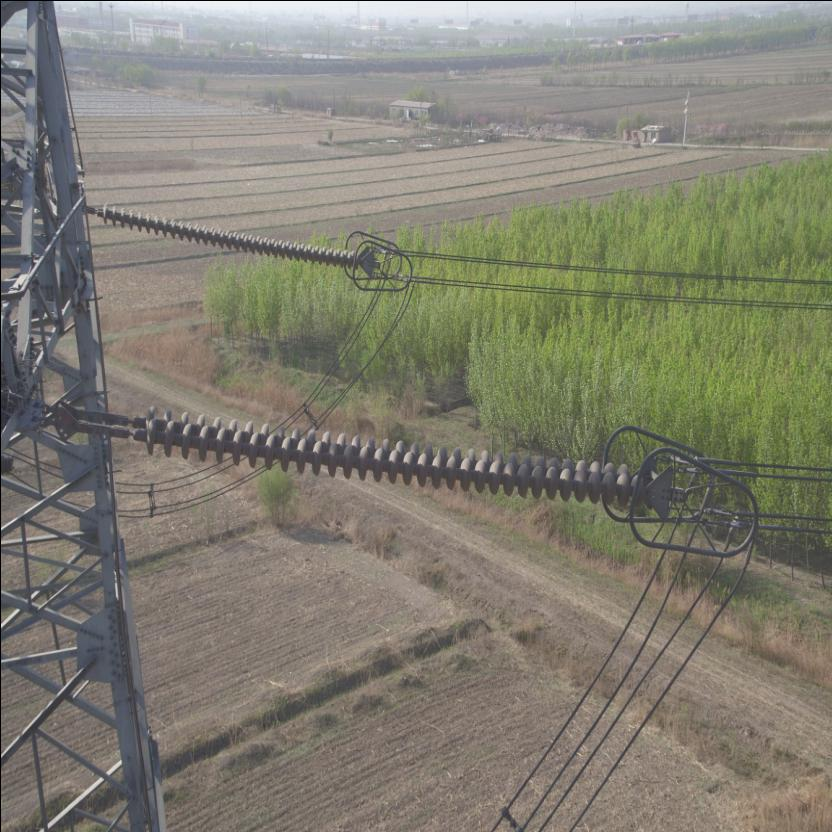insulator: (130, 401, 652, 512), (88, 188, 366, 272)
